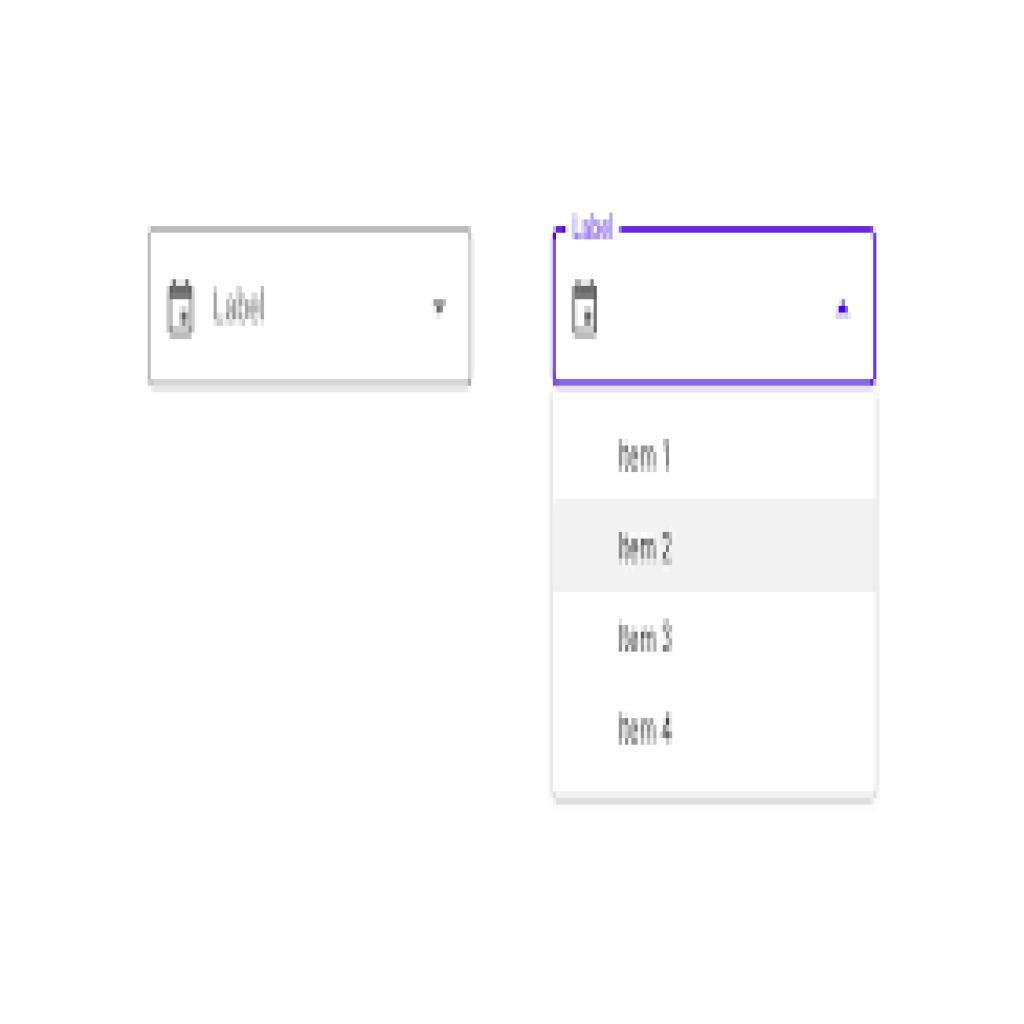dropdown: (153, 231, 469, 389), (558, 230, 879, 382)
icon: (160, 270, 203, 349), (567, 265, 606, 351)
